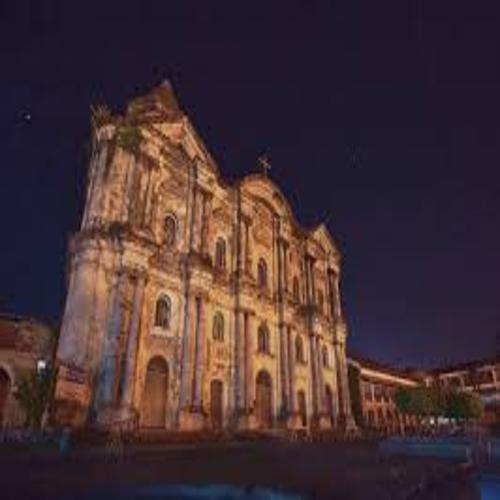Taal Basilica Church: (53, 72, 357, 447)
